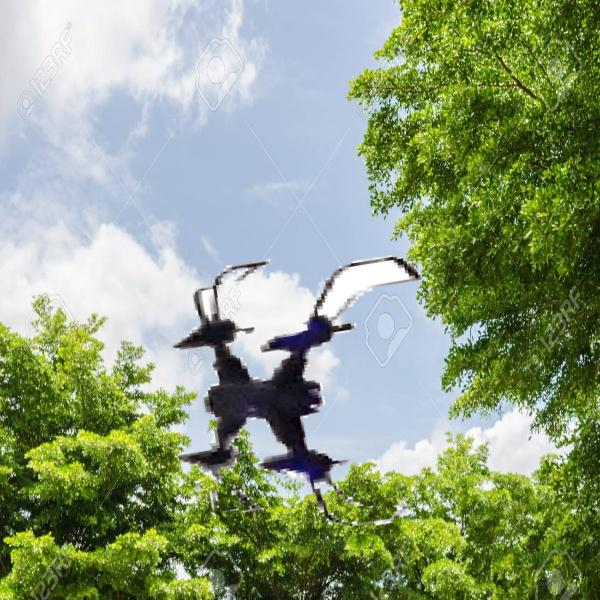drone: (149, 243, 459, 553)
